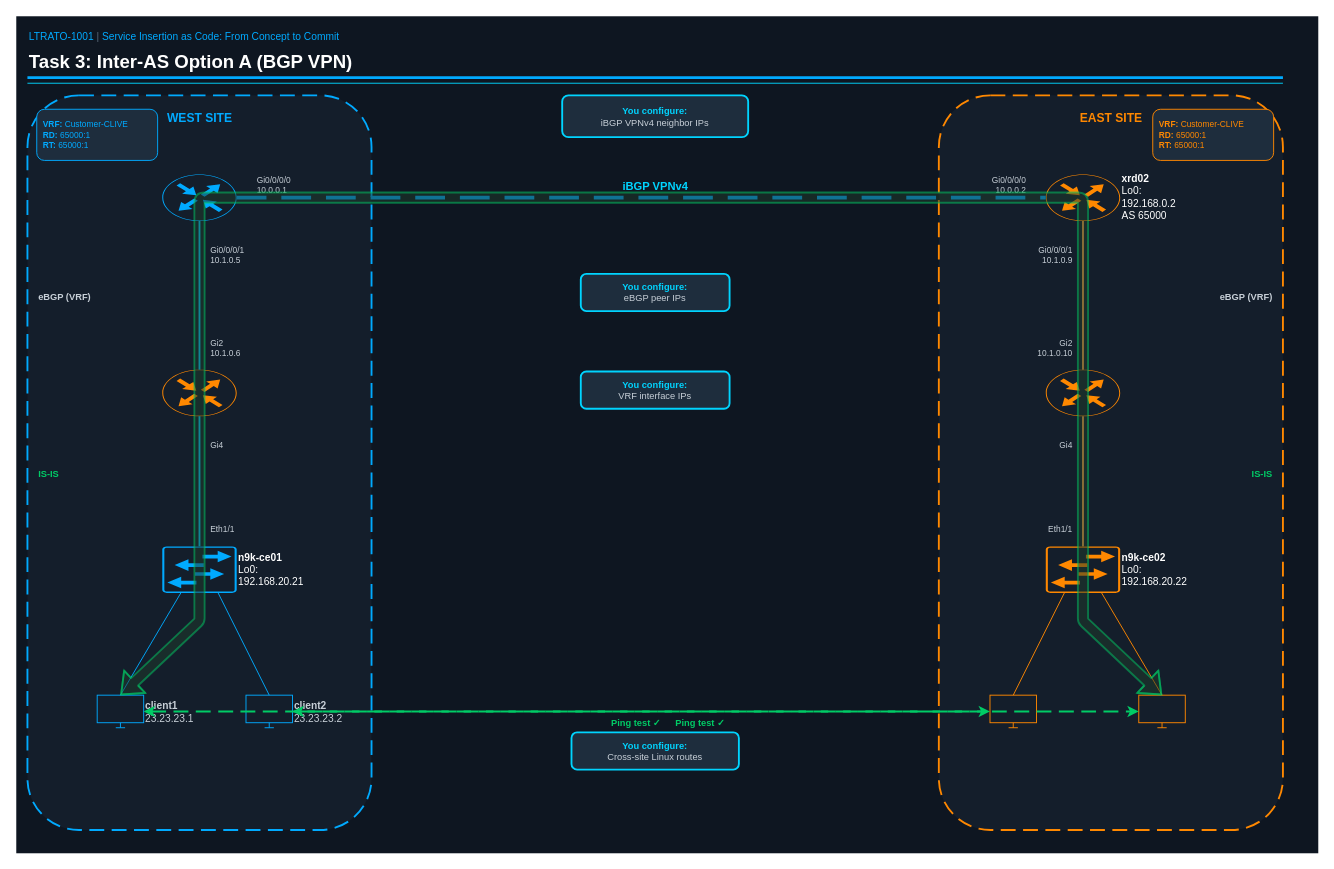
Some shapes in this 1334 by 869 pixel diagram are drawn without their labels. Each missing label, with the box of its shape:
client3 34.34.34.1: (989, 694, 1036, 728)
client4 34.34.34.2: (1138, 694, 1185, 728)
csr-pe01 Lo0: 192.168.10.11 AS 65001: (161, 369, 237, 416)
csr-pe02 Lo0: 192.168.10.12 AS 65001: (1045, 369, 1120, 416)
xrd01 Lo0: 192.168.0.1 AS 65000: (161, 173, 237, 221)
